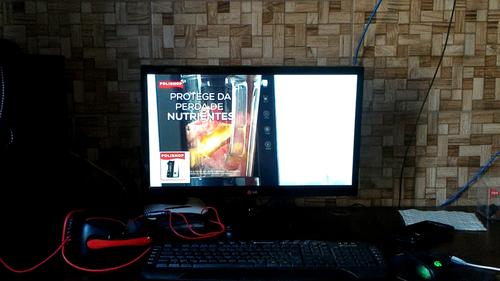Polishop #1: (155, 152, 191, 184)
